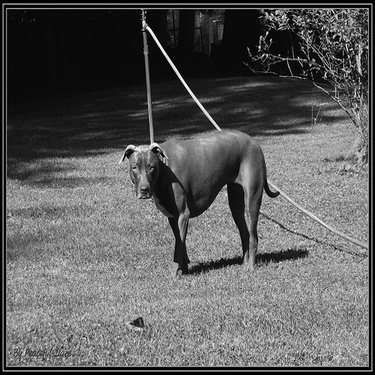dog: (111, 129, 282, 281)
